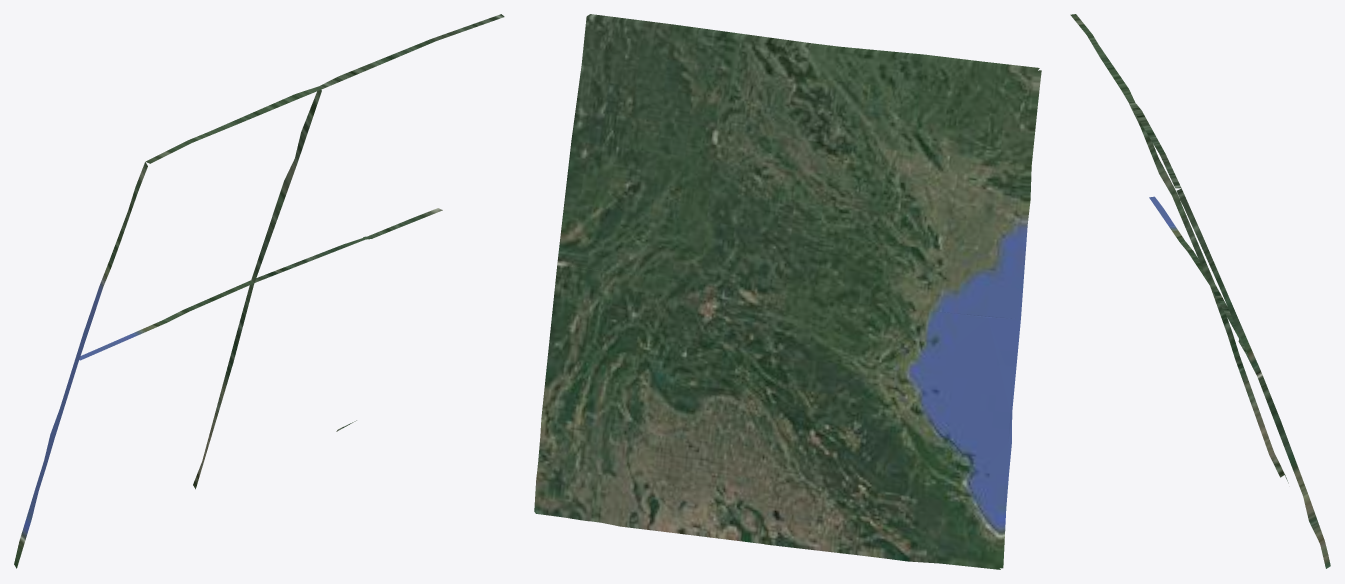
3 views of the same model, side by side, from view 1: azimuth 30°, elevation 25°; view 2: azimuth 150°, elevation 25°; view 3: azimuth 270°, elevation 25° (orthographic). The views are drawn at different scales.
Size of the model in its own units: 628287 by 595461 by 355243.
1 material, 1 textured.
